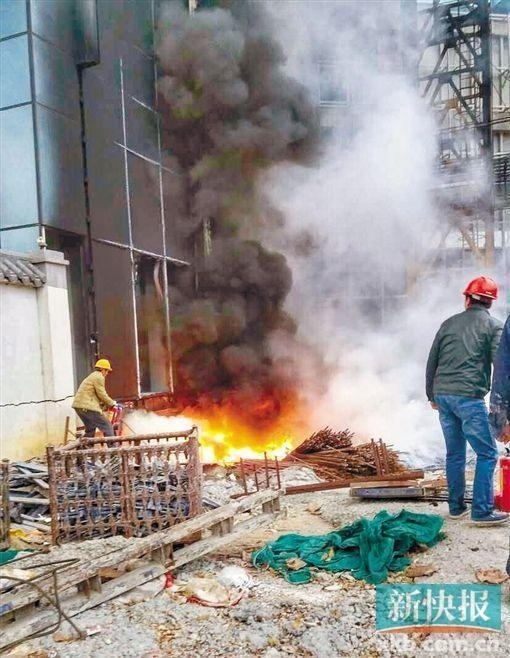fire: (181, 411, 295, 465)
